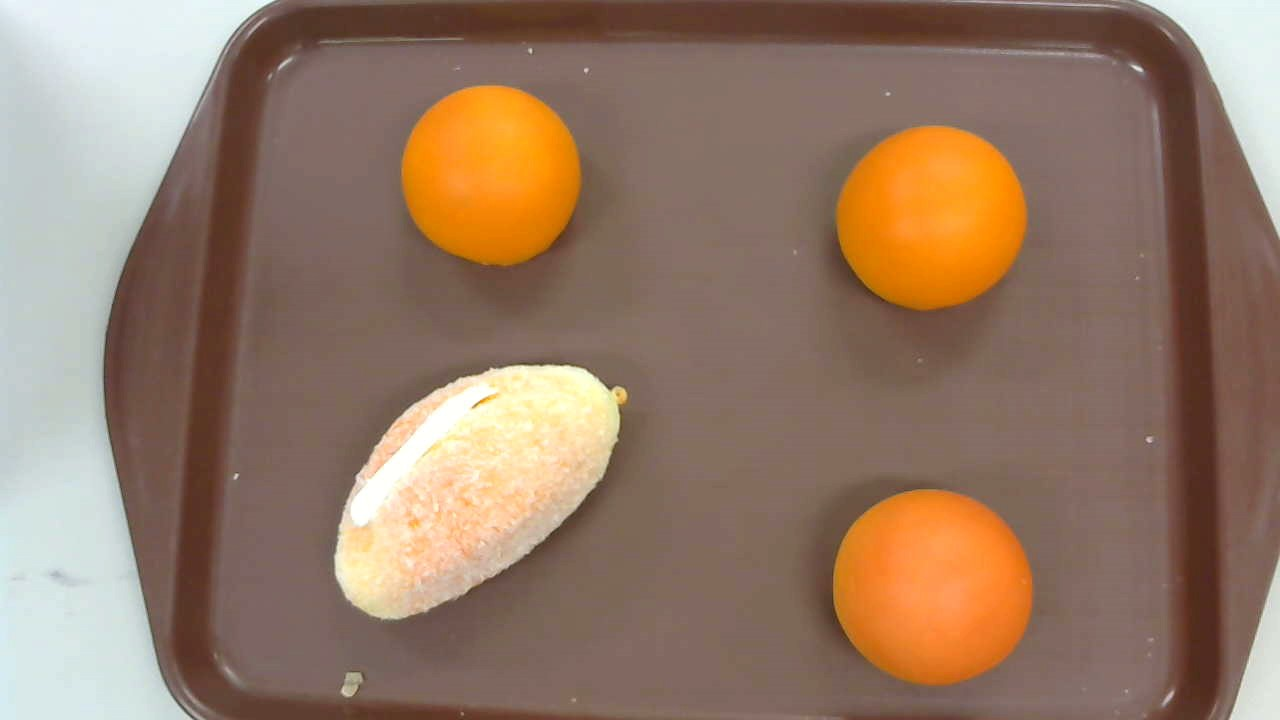bun: (831, 486, 1032, 687), (835, 123, 1027, 312), (401, 83, 582, 264)
coconut: (334, 363, 628, 622)
